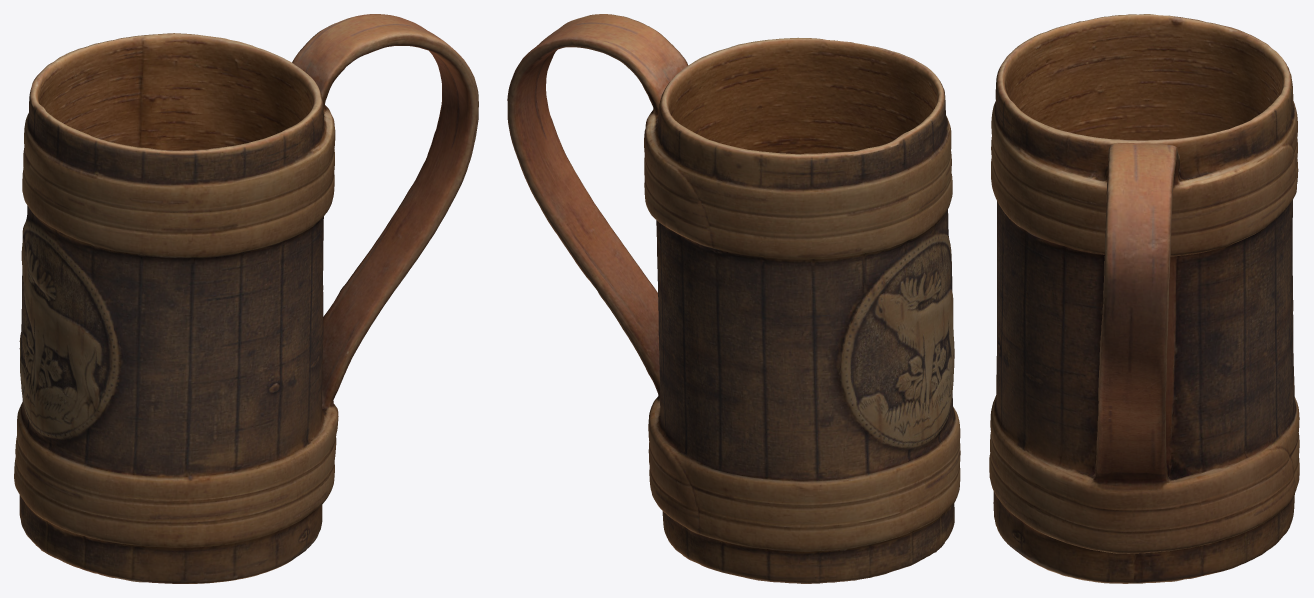
File: MaterialChange.gltf
3 views of the same model, side by side, from view 1: azimuth 30°, elevation 25°; view 2: azimuth 150°, elevation 25°; view 3: azimuth 270°, elevation 25° (orthographic). The views are drawn at different scales.
Parts seen in each view (by area): view 1: Model; view 2: Model; view 3: Model.
Part boxes in pixels (<box>): Model: <box>14,14,478,583</box>; Model: <box>507,14,960,583</box>; Model: <box>989,14,1299,583</box>.
Bounding box in the file's own units: 4.28 × 4.39 × 2.63.
1 material, 1 textured.
